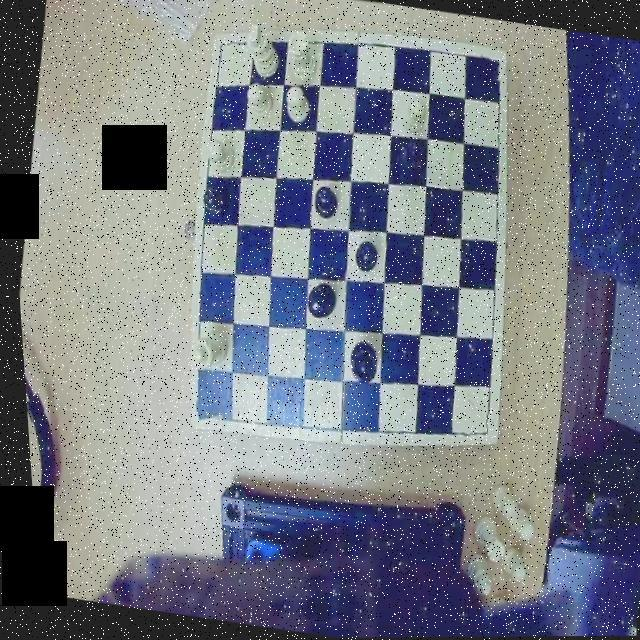chess-table-corners: (182, 394, 220, 429), (456, 411, 492, 445), (476, 51, 510, 82), (210, 32, 240, 64)
